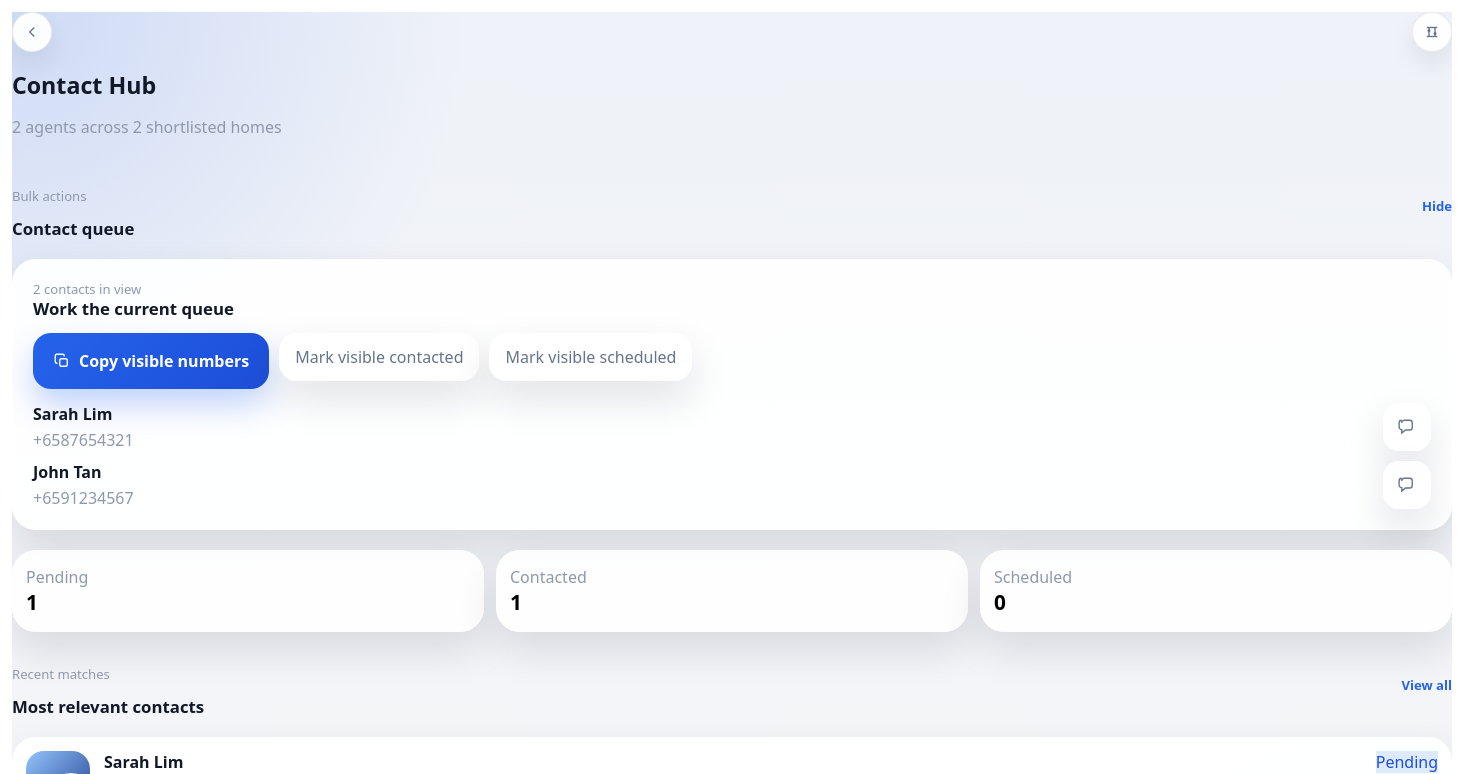
Test: ContactsScreen › opens the bulk surface from the shortlist CTA route and updates visible contacts in bulk
Expected: the element named "Bulk contact actions" is shown, top-left (12, 259), bottom-right (1452, 530)
Expected: the text "2 contacts in view" is shown, top-left (33, 280), bottom-right (141, 298)
Click the button "Copy visible numbers" at (151, 361), box top-left (33, 333), bottom-right (269, 389)
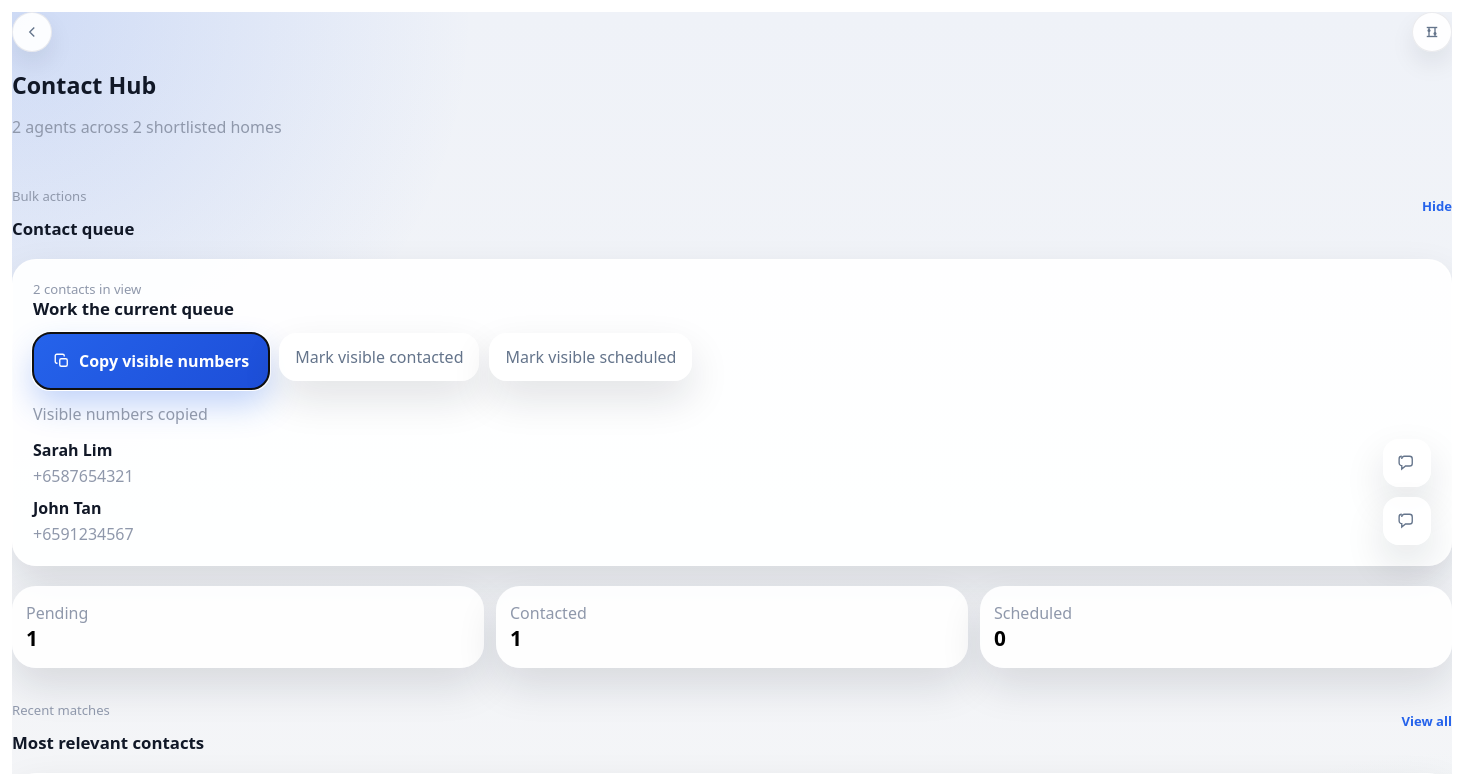
Expected: the message reads "Visible numbers copied", top-left (33, 403), bottom-right (208, 425)
Click the button "Mark visible scheduled" at (591, 357), box top-left (490, 333), bottom-right (692, 381)
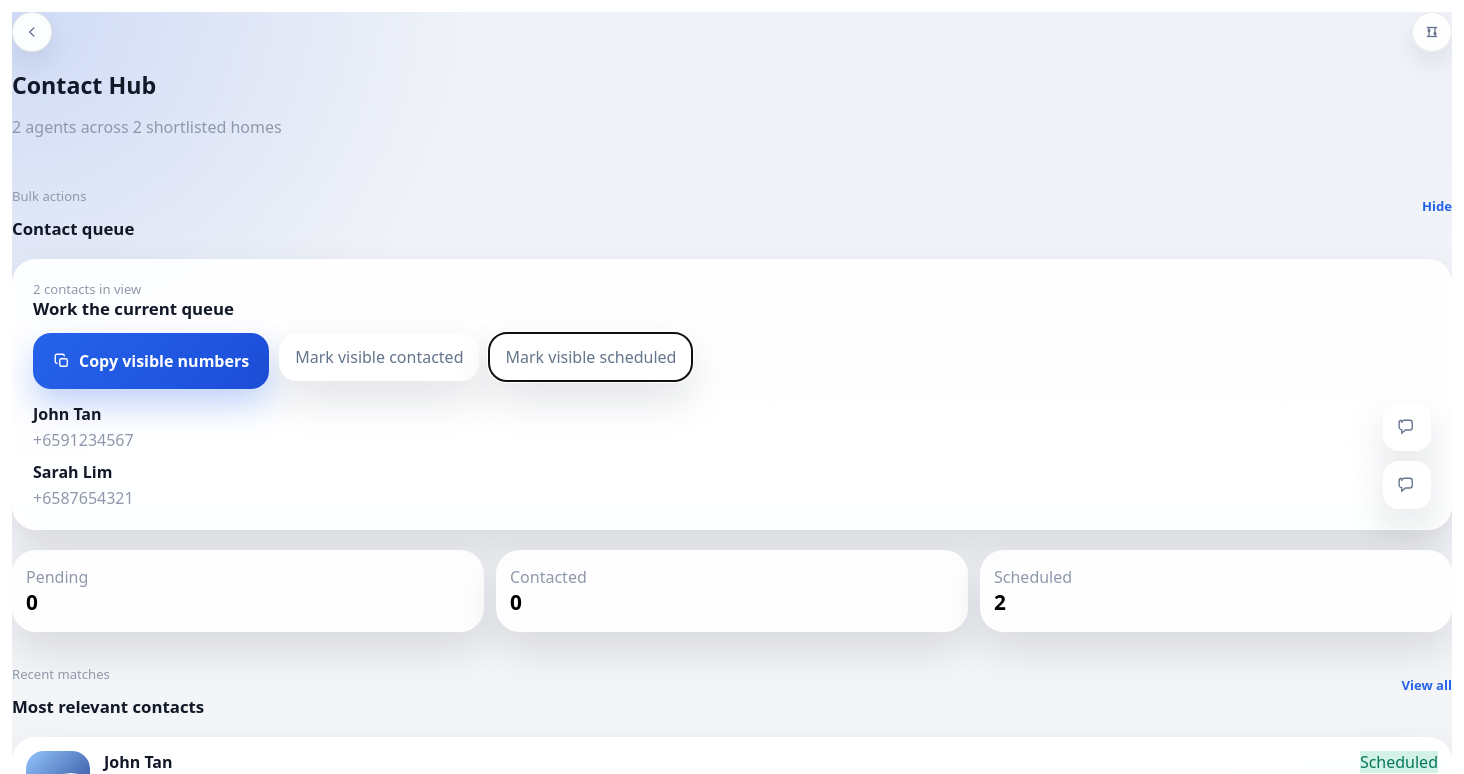
Expected: the button "Pending 0" is shown, top-left (12, 550), bottom-right (484, 632)
Expected: the button "Contacted 0" is shown, top-left (496, 550), bottom-right (968, 632)
Expected: the button "Scheduled 2" is shown, top-left (980, 550), bottom-right (1452, 632)
